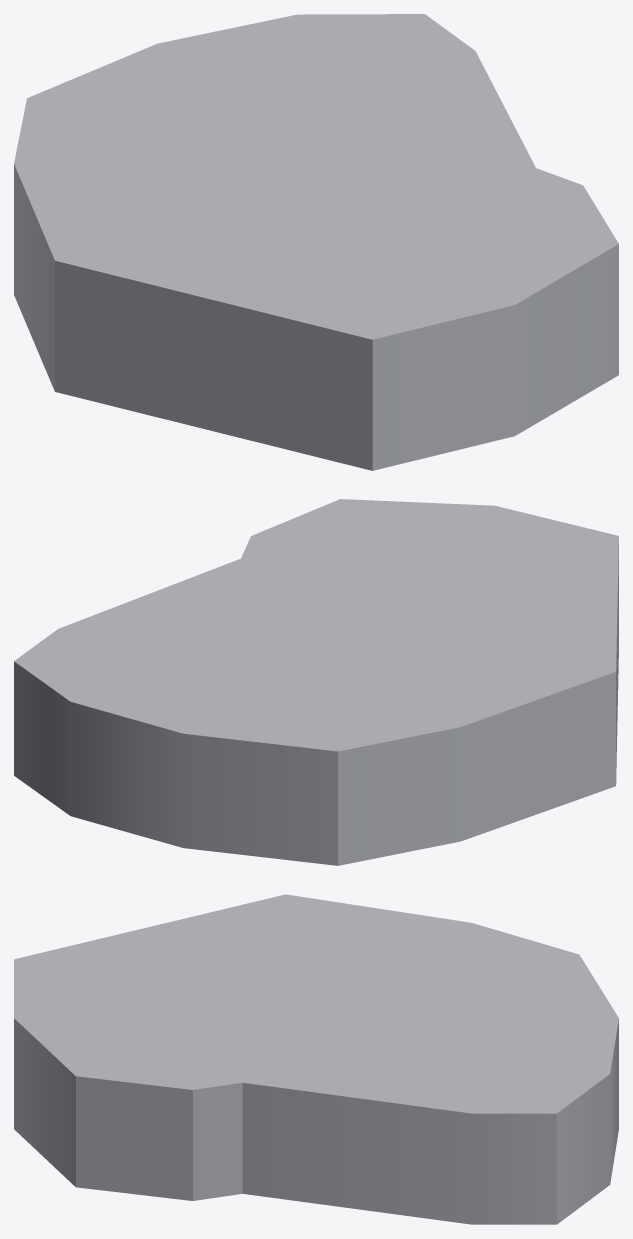
Rendered from Rock_E.fbx.
The picture shows the model from 3 angles, top to bottom: view 1: azimuth 30°, elevation 25°; view 2: azimuth 150°, elevation 25°; view 3: azimuth 270°, elevation 25°; orthographic projection. The views are drawn at different scales.
Visible parts, largest first — view 1: Rock_E; view 2: Rock_E; view 3: Rock_E.
Boxes of the visible parts, <box> form: Rock_E: <box>14,14,618,470</box>; Rock_E: <box>14,499,618,865</box>; Rock_E: <box>14,894,618,1224</box>.
Size of the model in its own units: 90.37 by 21.37 by 105.
